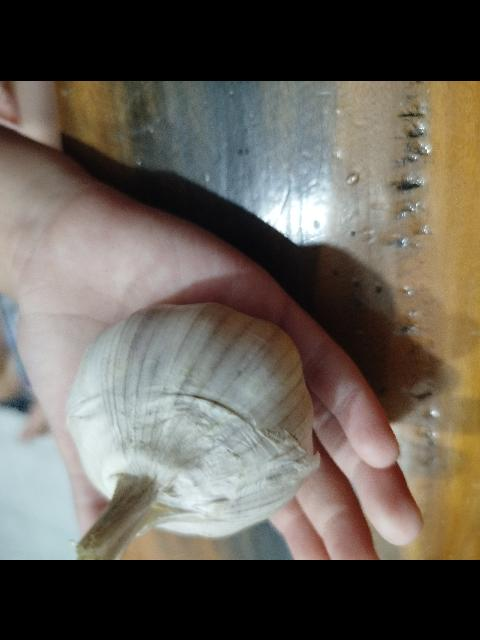garlic: (65, 300, 321, 560)
